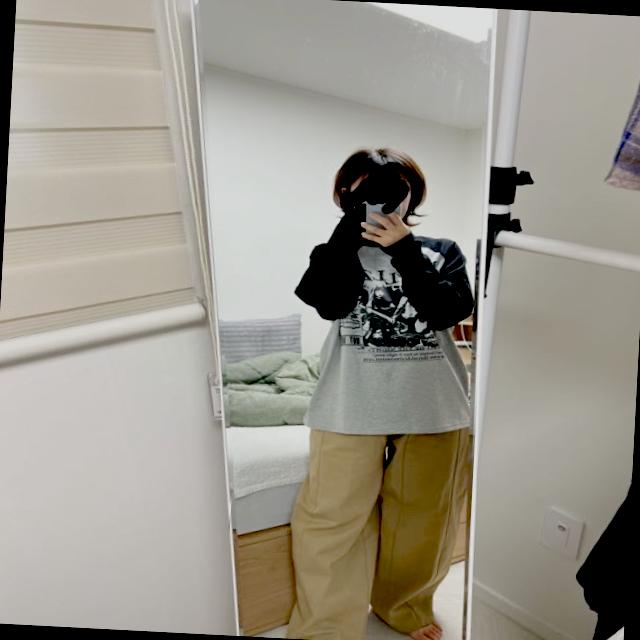cottonpants: (283, 419, 468, 640)
longsleeve: (293, 215, 488, 440)
